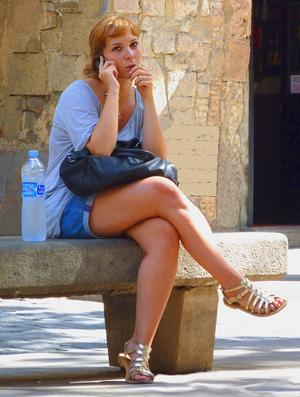person: (45, 16, 290, 387)
